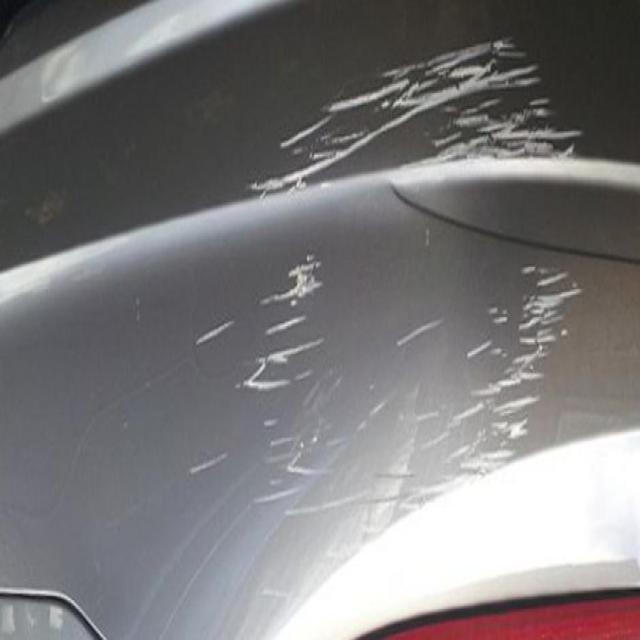scratch: (200, 36, 600, 572)
